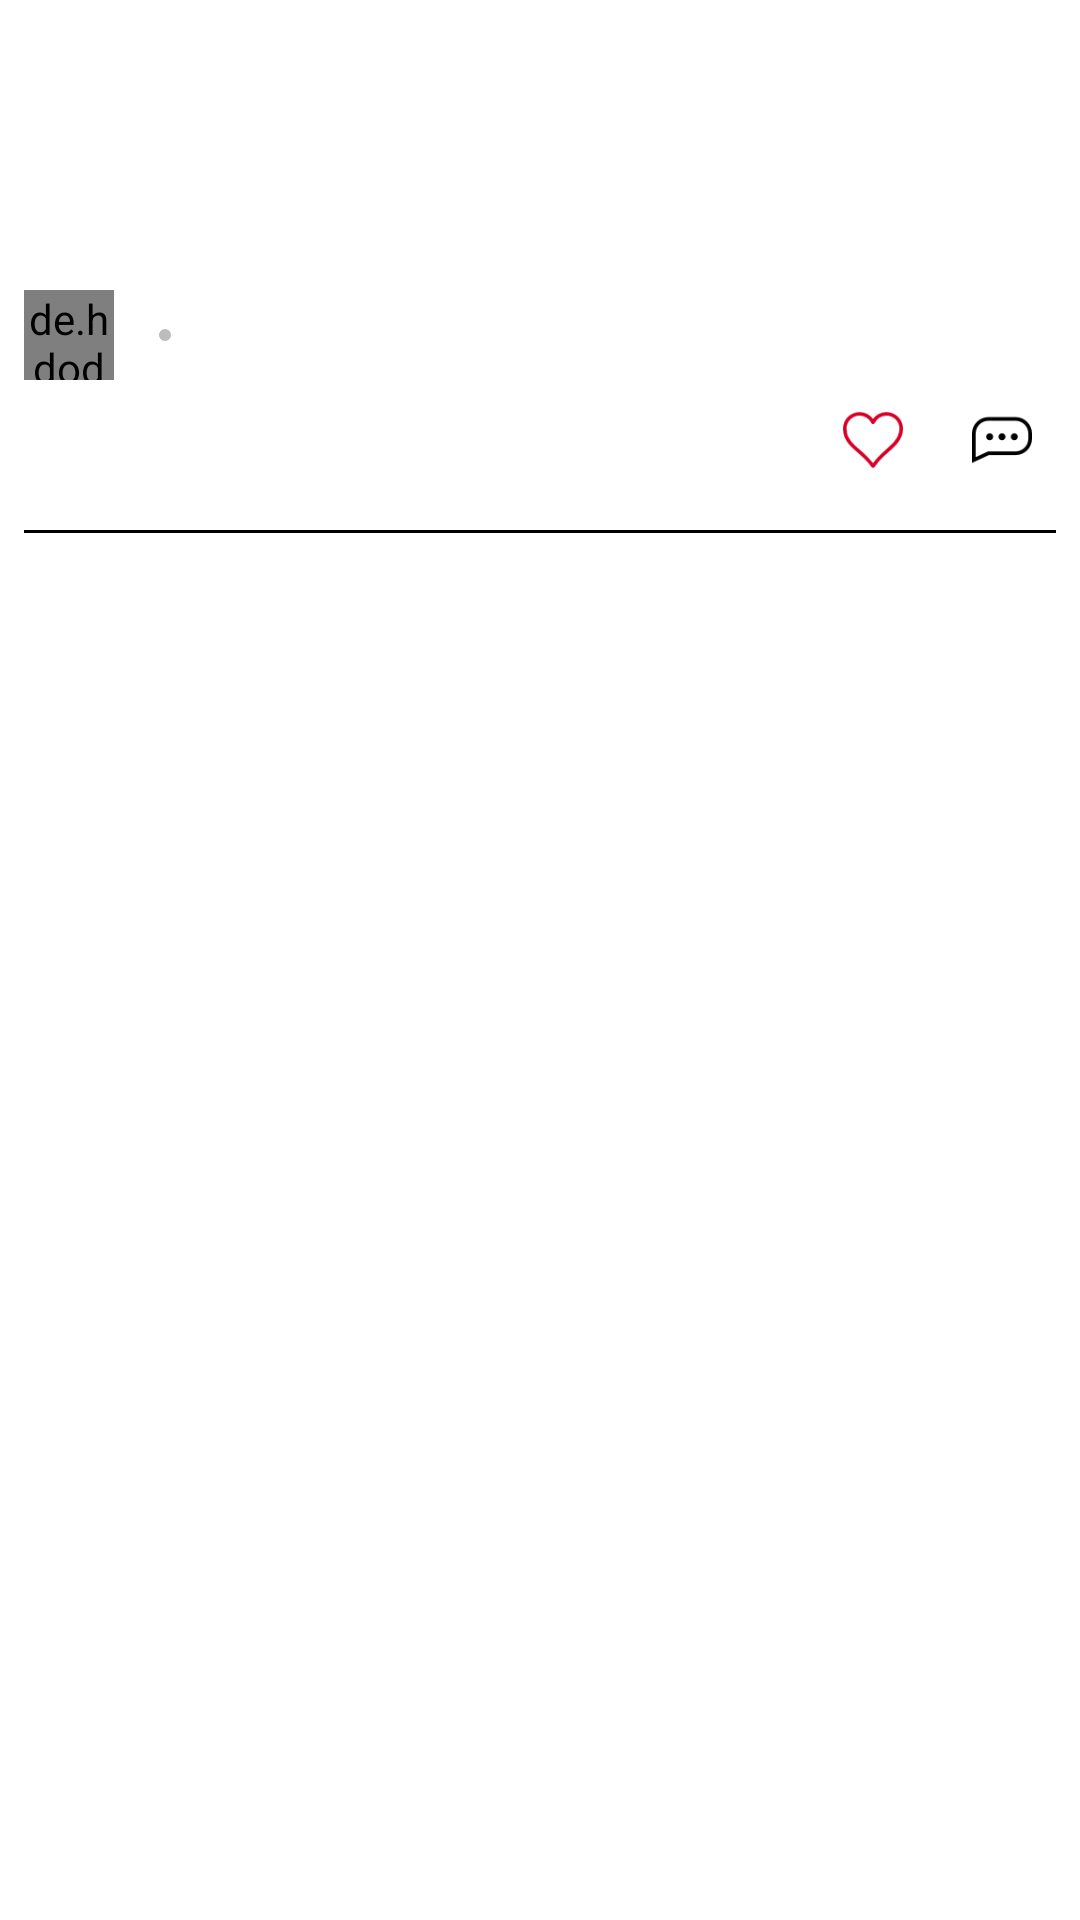

Screen size 1080 × 1920. Icon name, then its center in pixels as (x=x, y=y):
comment: (x=1002, y=439)
heart: (x=873, y=440)
